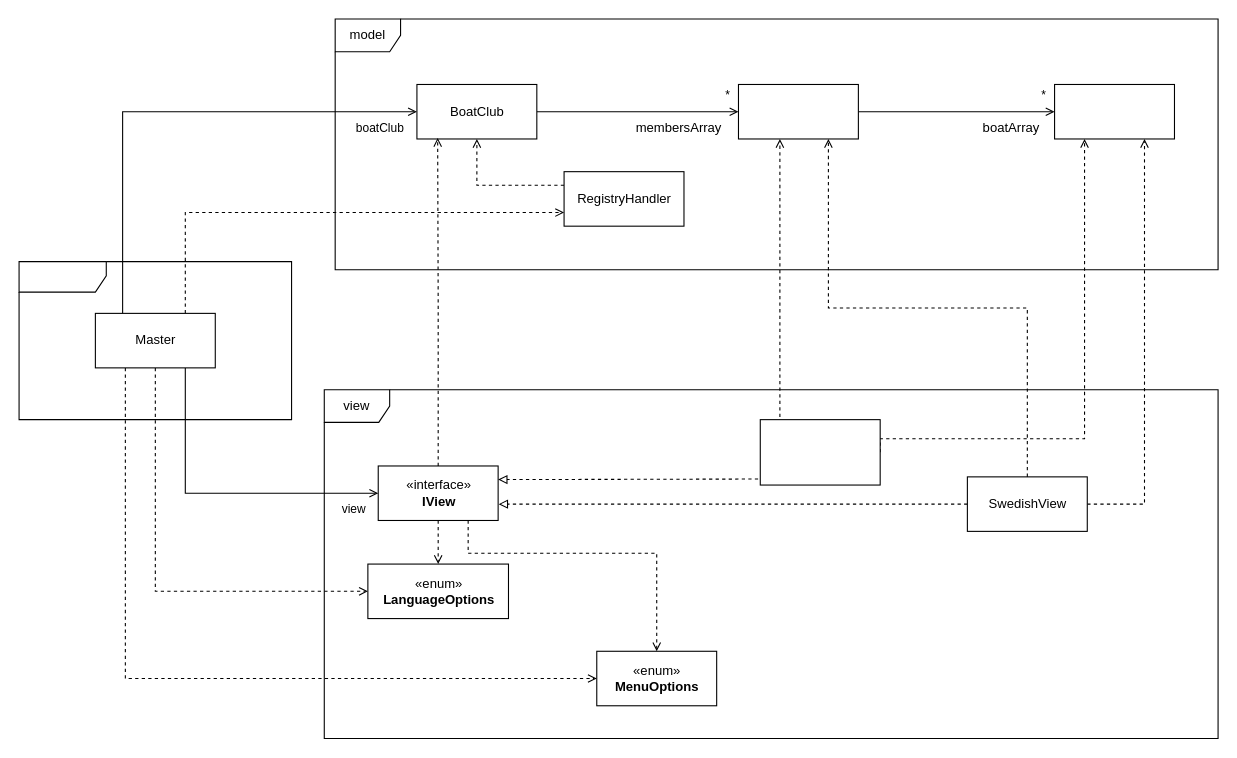
The diagram is 1237 pixels wide and 758 high, and some of its shapes have lost their labels. The shapes that lost their labels are listed below. From the top down, each one's centre as x and y in pixels, then its label:
the point at 797,111: Member
the point at 1113,111: Boat
the point at 155,340: controller
the point at 819,452: EnglishView
